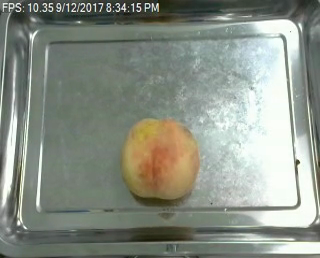Peach: (120, 116, 200, 200)
